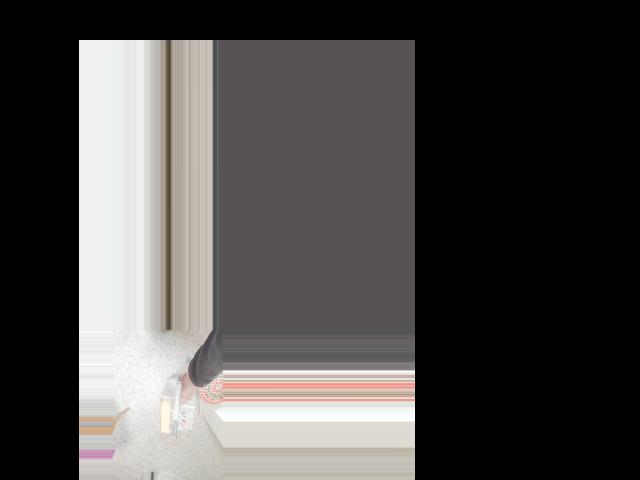cheese: (152, 376, 194, 437)
